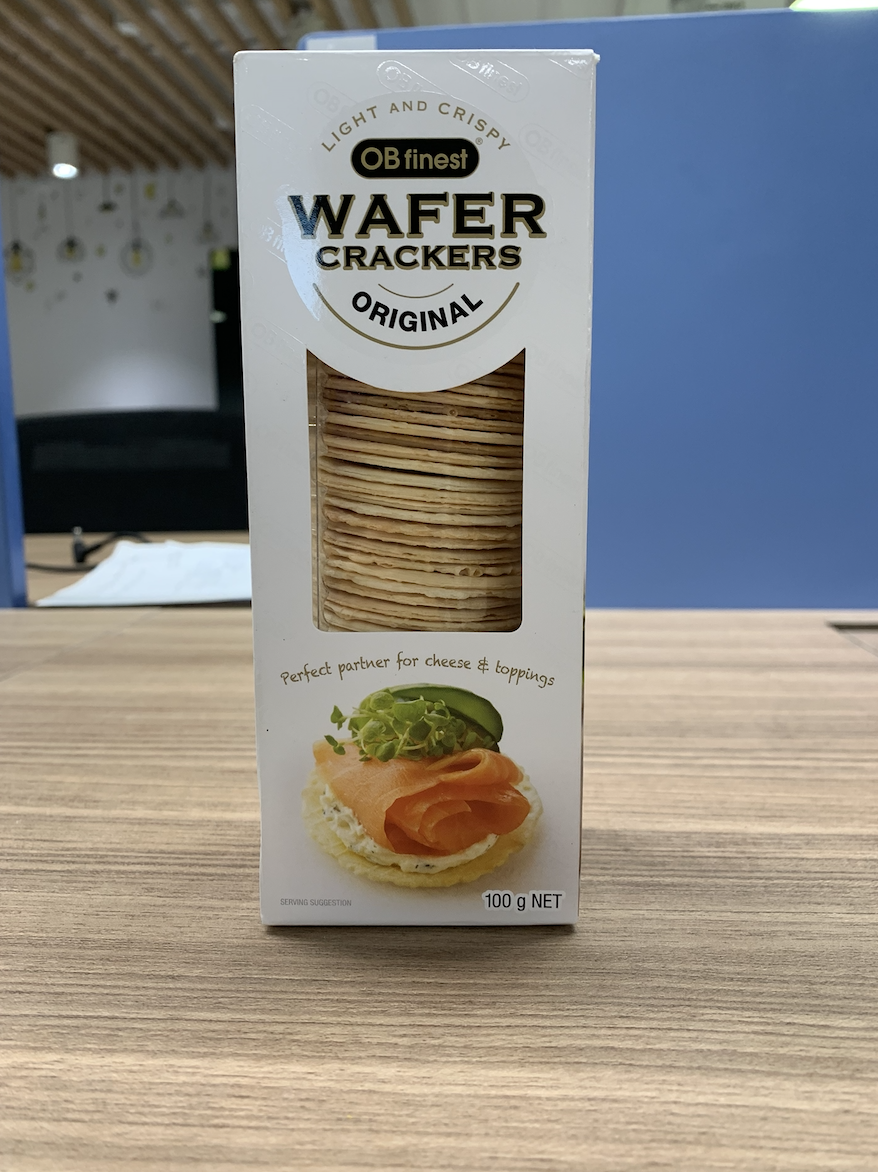crackers_100g-199g: (269, 81, 572, 914)
